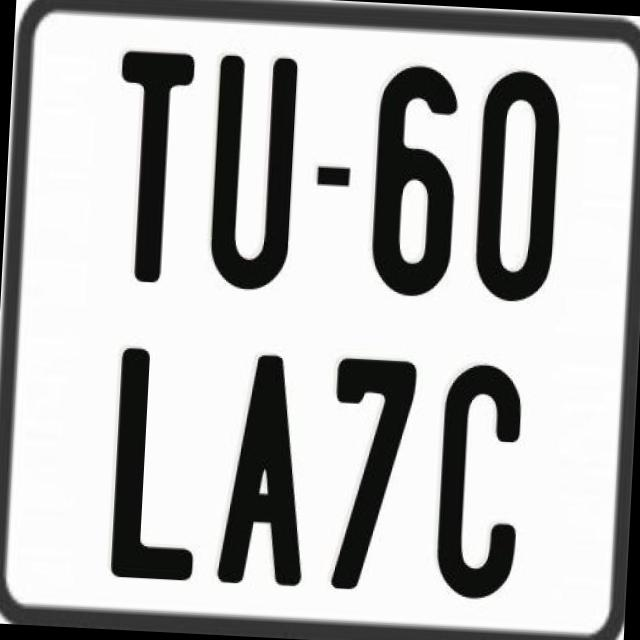0: (472, 66, 568, 307)
6: (368, 62, 466, 306)
7: (325, 353, 415, 597)
A: (212, 352, 312, 590)
C: (435, 358, 525, 600)
L: (107, 348, 209, 584)
T: (108, 50, 192, 284)
U: (208, 51, 300, 296)
